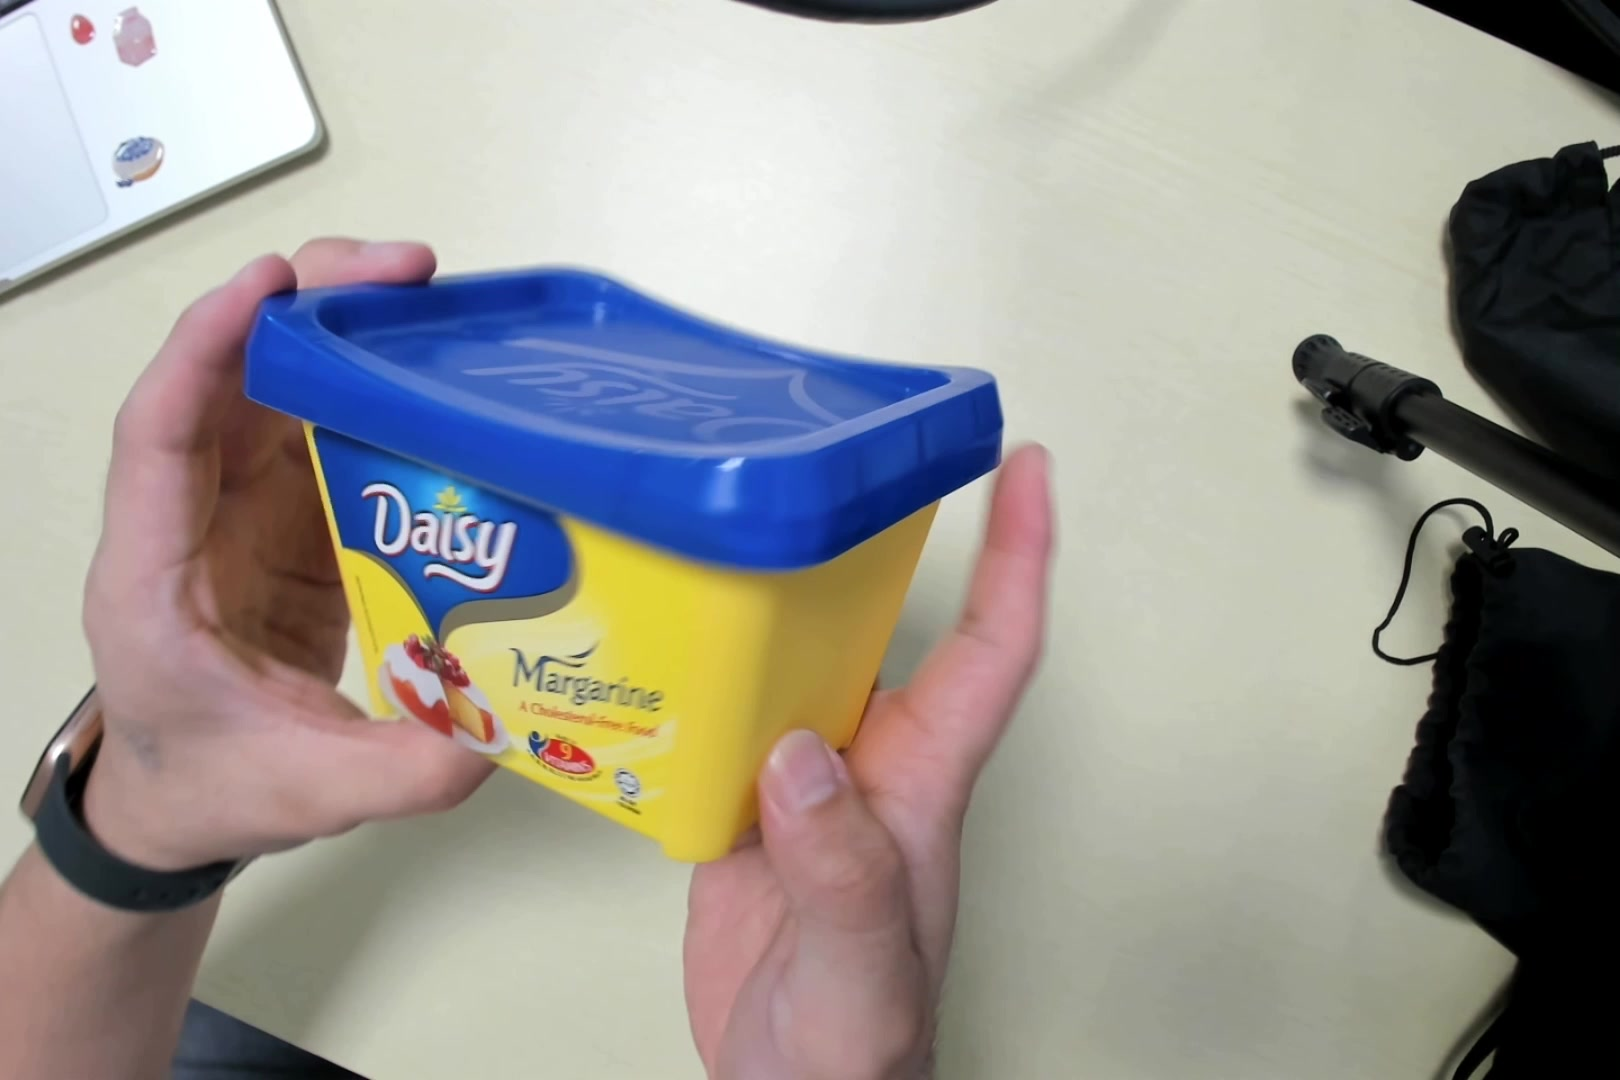OtherSpreads_400-499g_Halal_NonHealthy: (256, 268, 993, 863)
